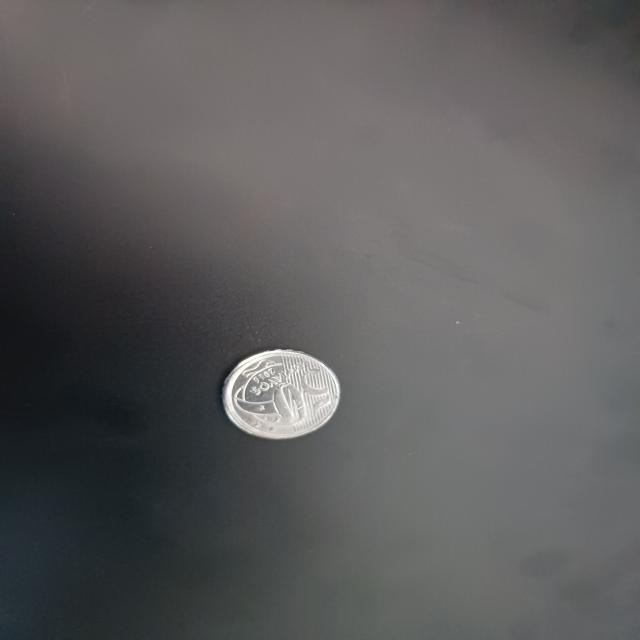50 cents: (225, 349, 343, 442)
